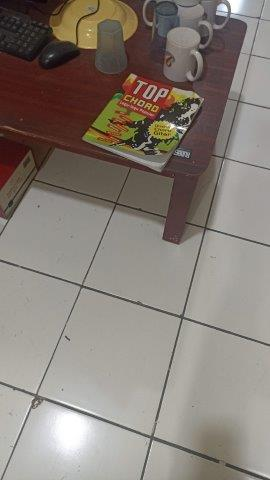kertas: (80, 73, 204, 176)
